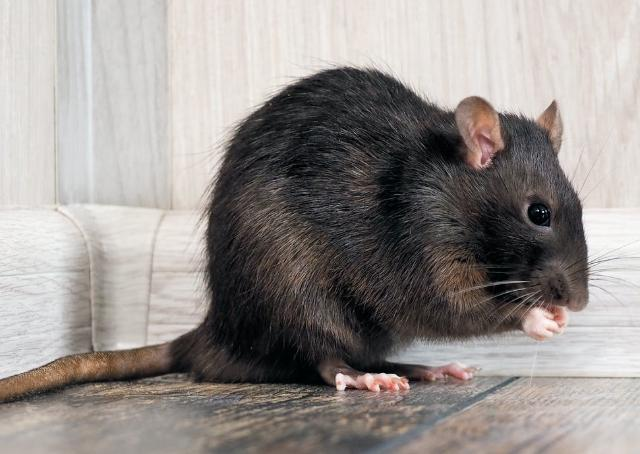rat: (125, 58, 612, 402)
